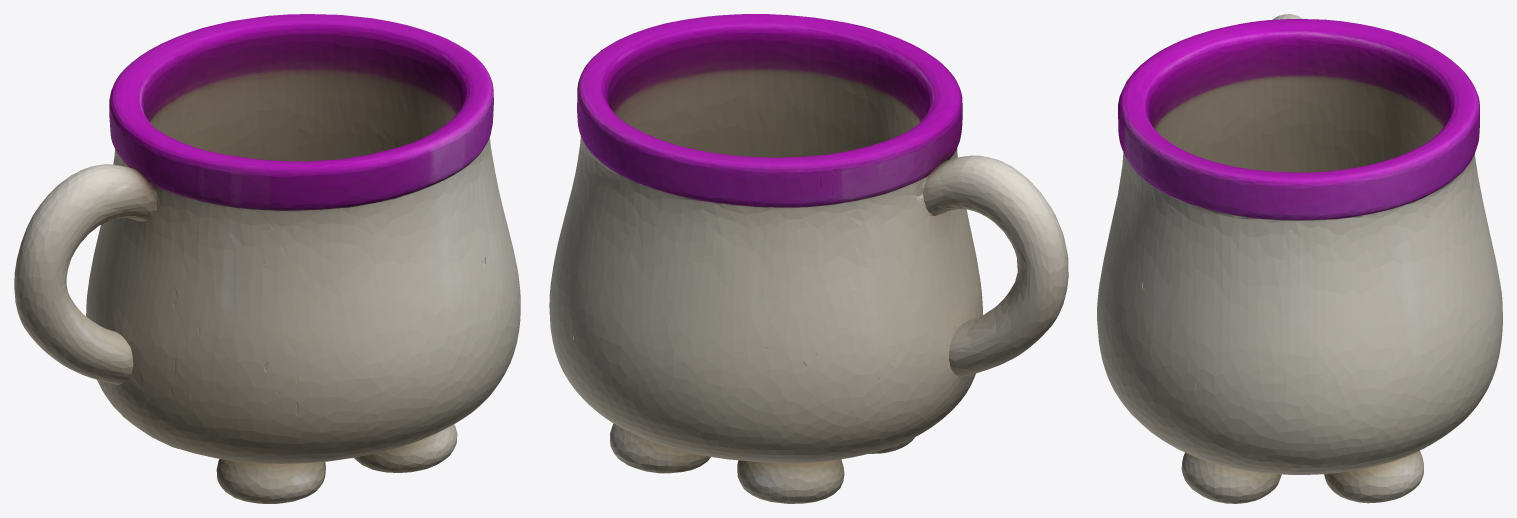
File: caneca.glb
The picture shows the model from 3 angles, left to right: view 1: azimuth 30°, elevation 25°; view 2: azimuth 150°, elevation 25°; view 3: azimuth 270°, elevation 25°; orthographic projection.
Visible parts, largest first — view 1: geometry_0; view 2: geometry_0; view 3: geometry_0.
Part boxes in pixels (x1=…): geometry_0: x1=14, y1=14, x2=520, y2=503; geometry_0: x1=549, y1=14, x2=1068, y2=503; geometry_0: x1=1097, y1=14, x2=1502, y2=503.
Size of the model in its own units: 0.9982 by 0.7127 by 0.7329.
1 material, 1 textured.
